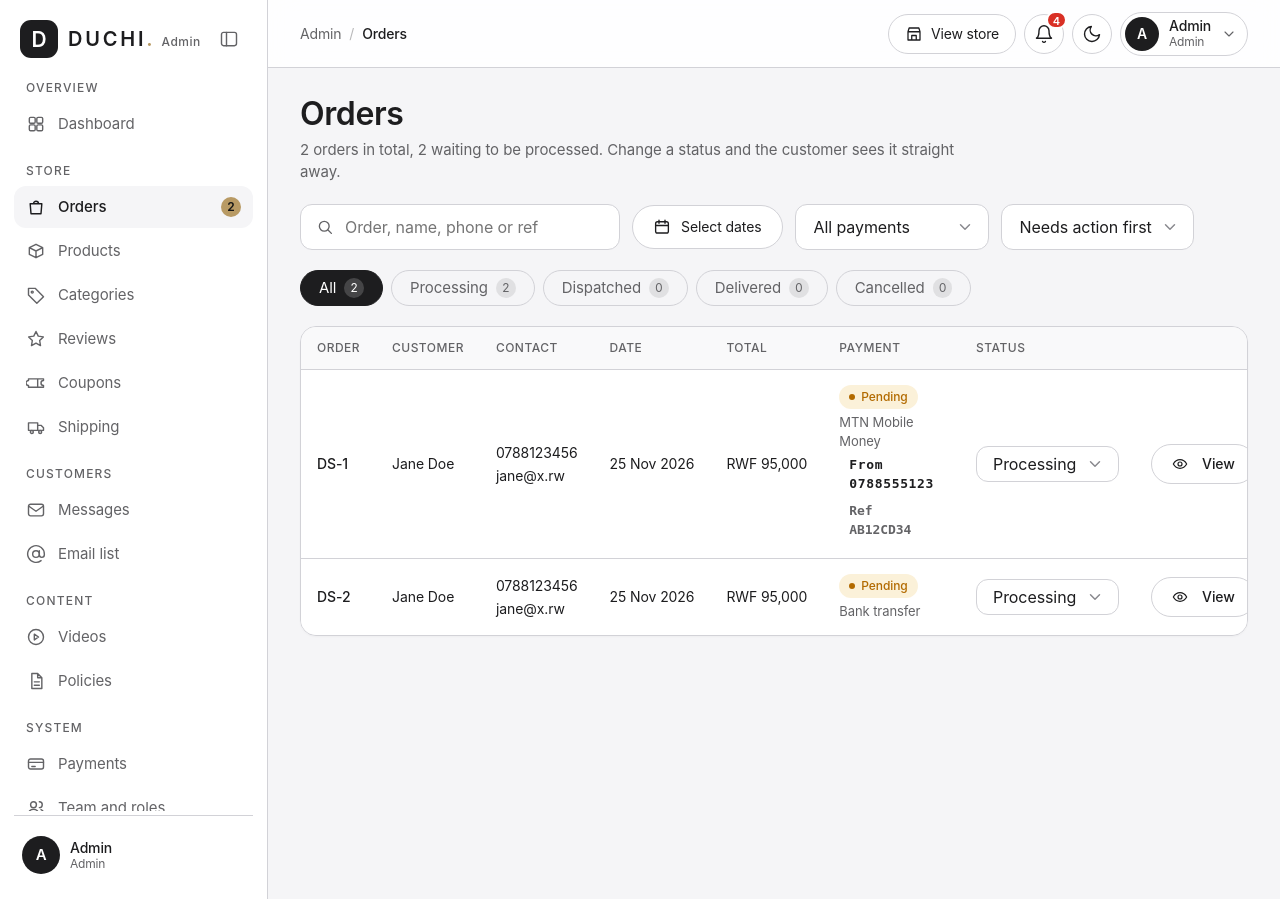
the admin can see the number the customer paid from › the order shows the payment first, with everything to check before pressing Paid
Click the button with aria-label "View order DS-1": (1203, 464) x1=1151 y1=444 x2=1256 y2=484
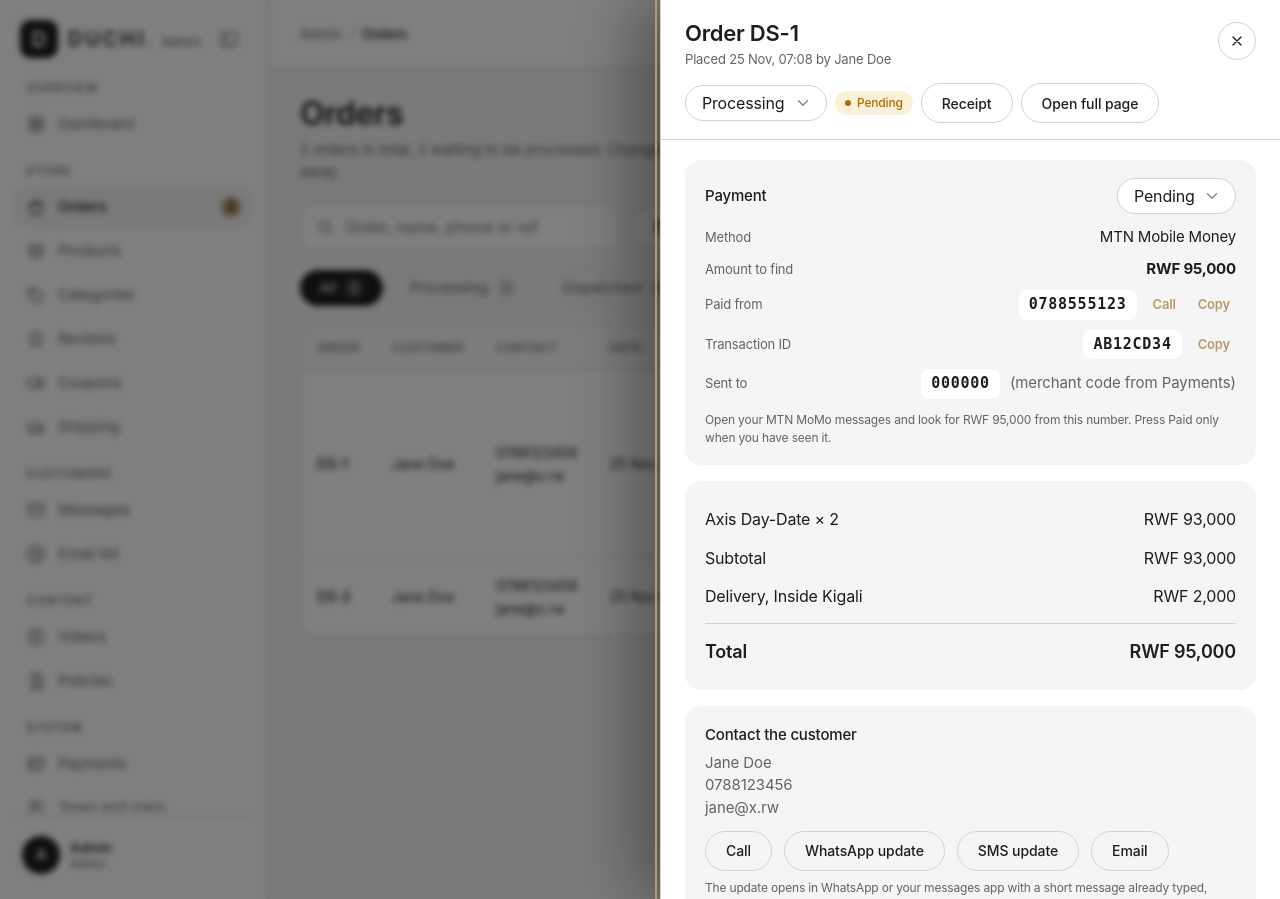
Check: the element that starts with "Payment" is shown, box x1=705 y1=186 x2=766 y2=205
Check: the text "RWF 95,000" in the row of "Amount to find" is shown, box x1=1146 y1=259 x2=1236 y2=278
Check: the text "0788555123" is shown, box x1=1019 y1=290 x2=1136 y2=320
Click the button "Copy" in the row of "Paid from": (1214, 304) x1=1192 y1=291 x2=1236 y2=318
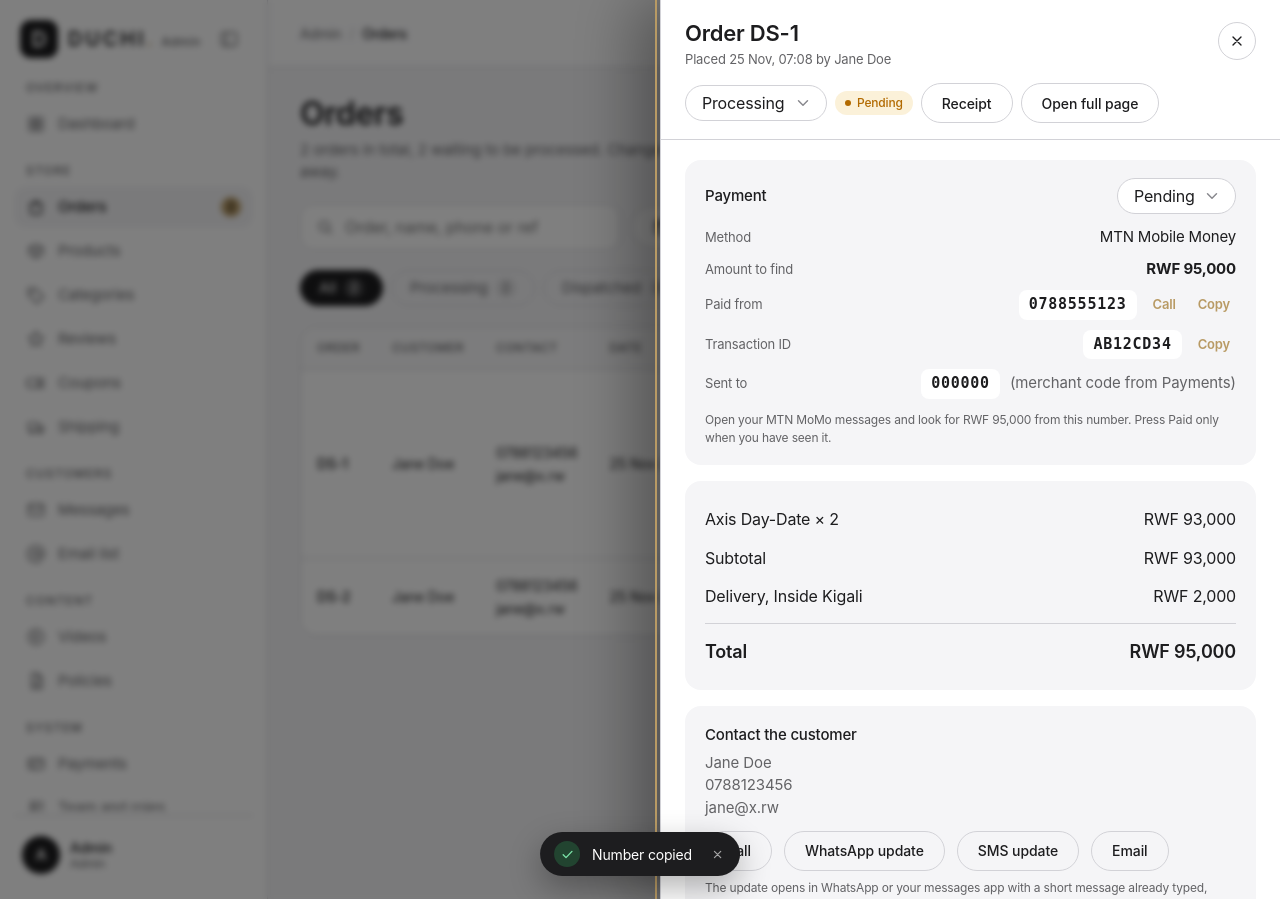
Check: the message with class "toast" reads "Number copied", box x1=592 y1=846 x2=692 y2=862
